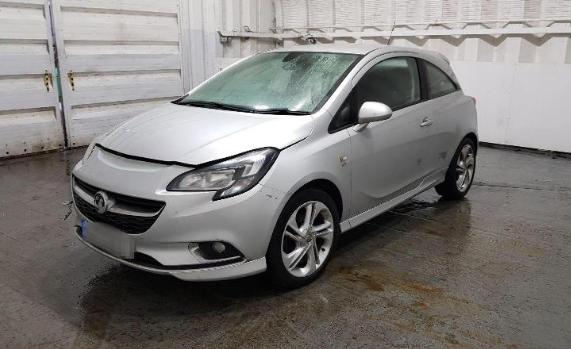Back-wheel: (435, 136, 478, 199)
Back-window: (426, 61, 458, 97)
Fender: (257, 110, 352, 221)
Front-bumper: (71, 146, 294, 282)
Front-door: (349, 52, 442, 218)
Front-wheel: (264, 186, 341, 288)
Front-window: (357, 56, 415, 110)
Grille: (73, 178, 164, 232)
Headlight: (166, 146, 281, 201), (80, 122, 124, 166)
Hood: (97, 101, 314, 167)
Mirror: (330, 97, 391, 134)
Quarter-panel: (432, 90, 478, 169)
Rocker-panel: (340, 165, 447, 233)
Roof: (257, 43, 394, 57)
Windshield: (175, 51, 359, 116)
